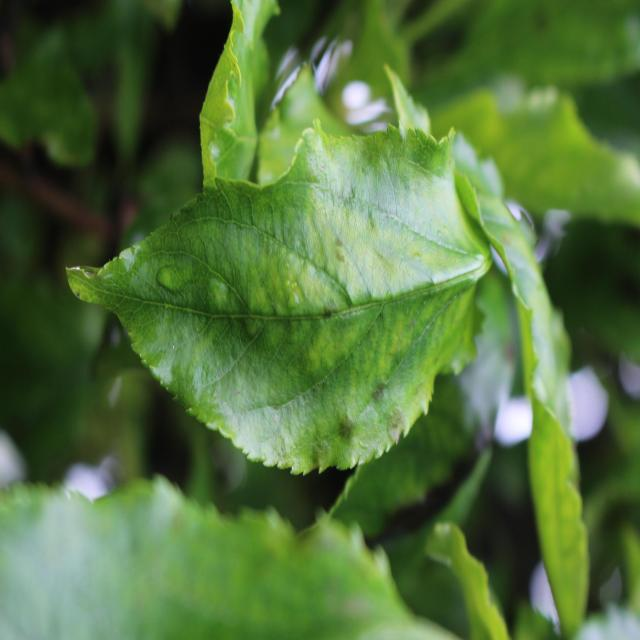scab: (302, 360, 436, 480), (326, 184, 401, 286)
